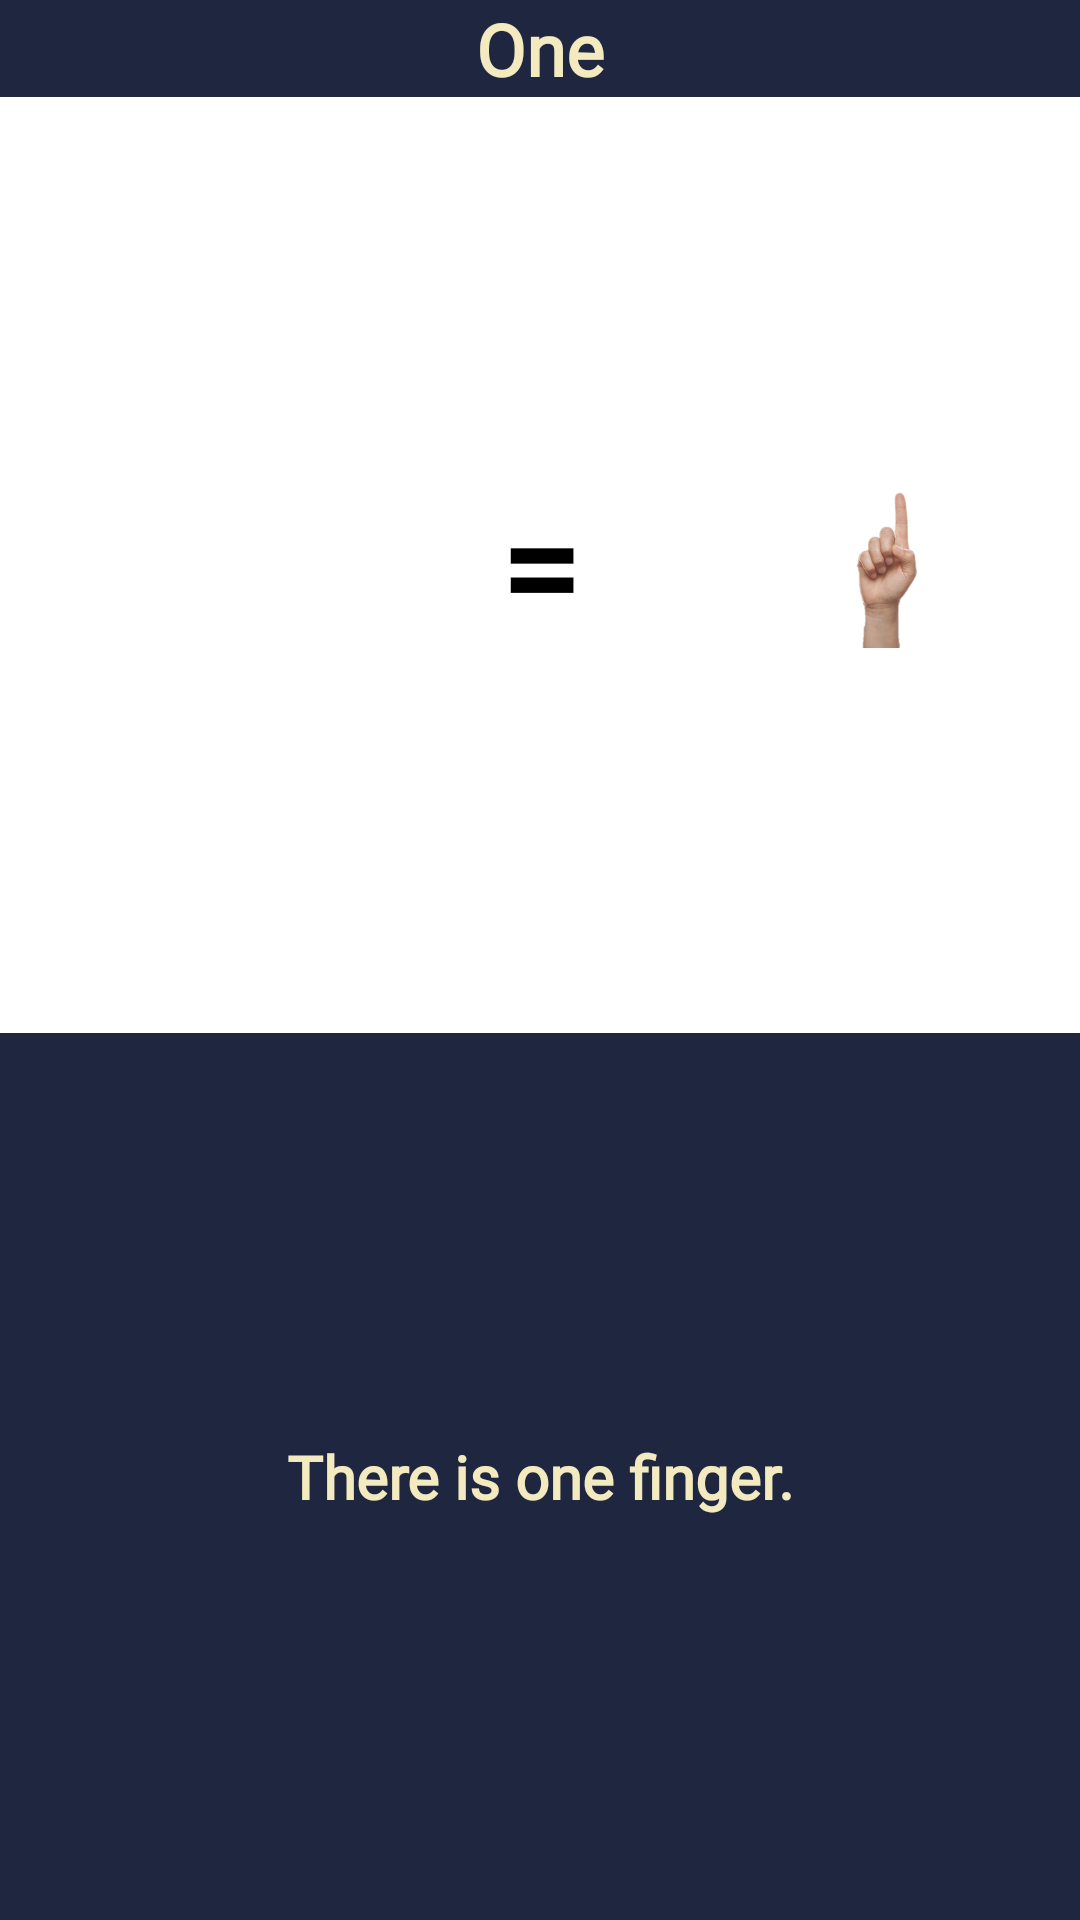

Icon click points for this 1080*1920 phone screenshot, format (x,y):
one count: (887,570)
